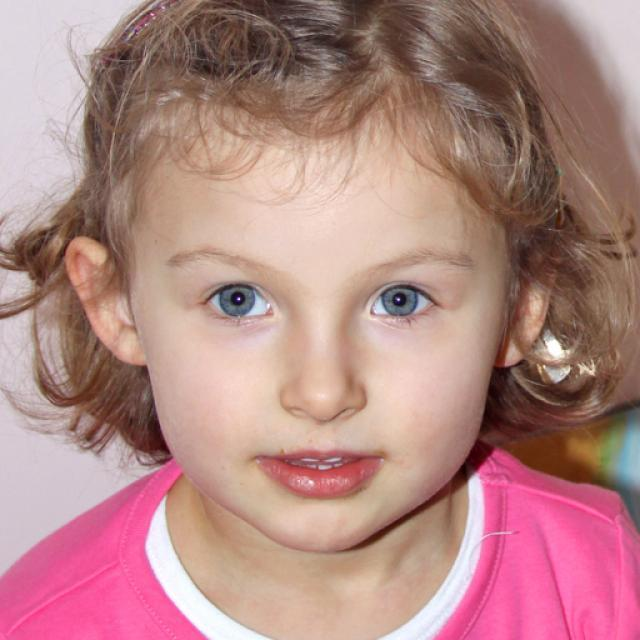neutral: (141, 112, 501, 552)
